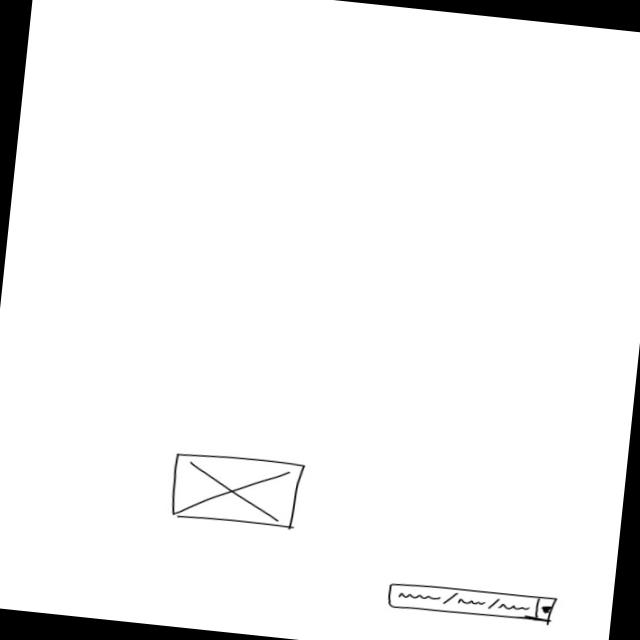image: (166, 448, 306, 531)
select: (385, 578, 558, 627)
